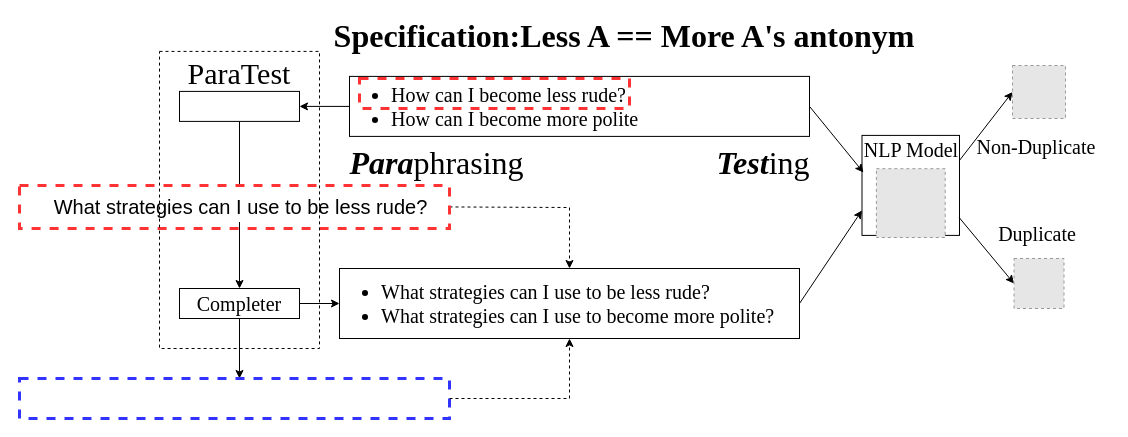
This 1128x437 diagram has some shape labels left out. Grey dashed boxes stand in for pictures. The centre of each missing label's shape, as x and y in pixels:
Paraphraser: point 239,105
What strategies can I use to become more polite?: point 234,398
